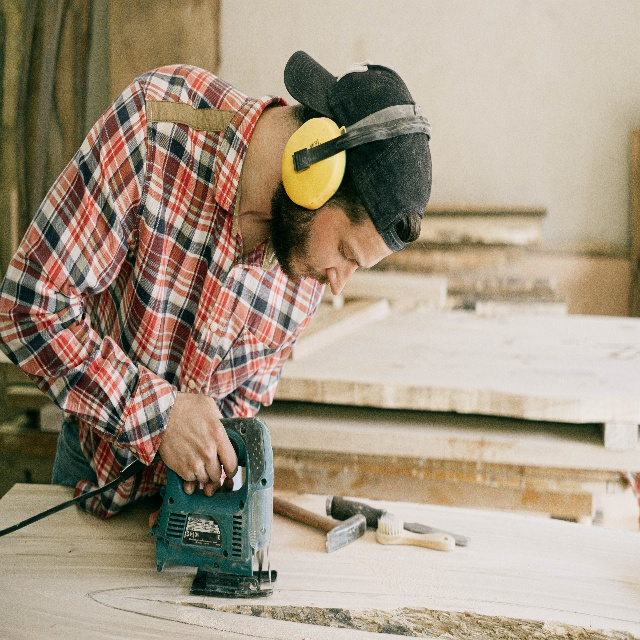Sin_guantes: (158, 389, 240, 484), (148, 466, 235, 532)
